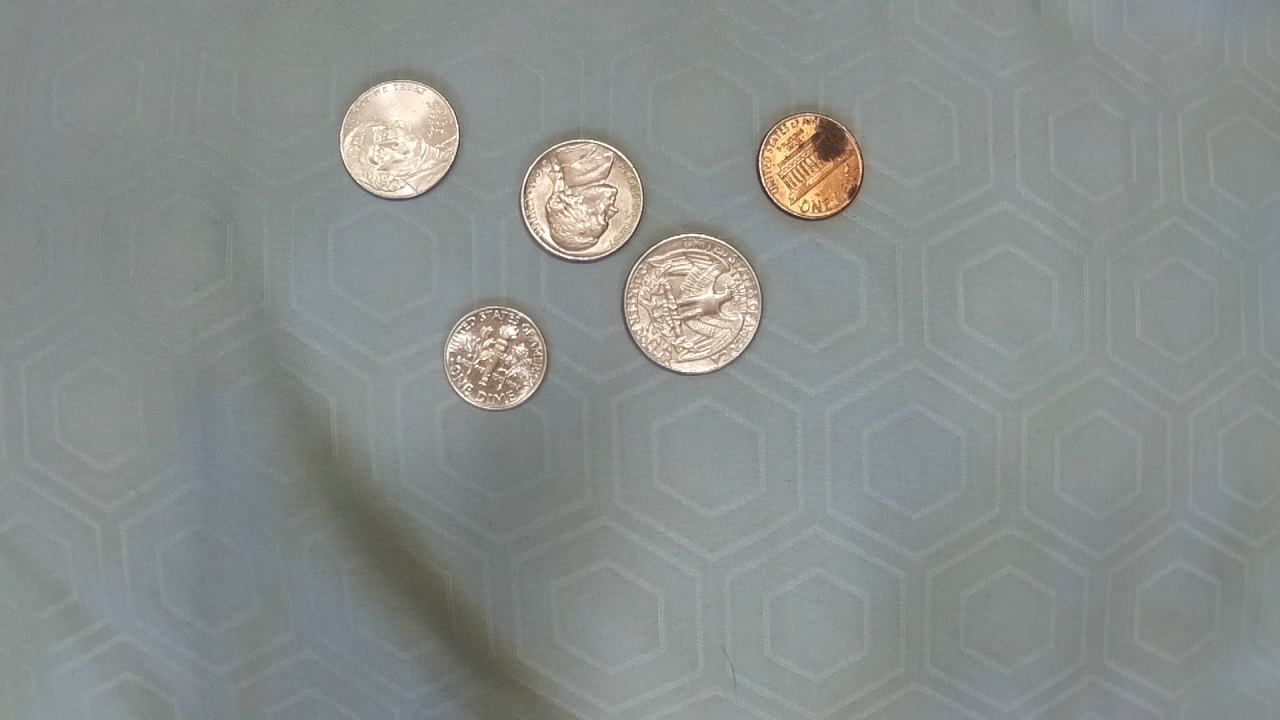dime: (441, 300, 551, 414)
nickel: (516, 136, 648, 262), (336, 78, 460, 200)
penny: (754, 108, 868, 224)
quarter: (620, 230, 764, 378)
